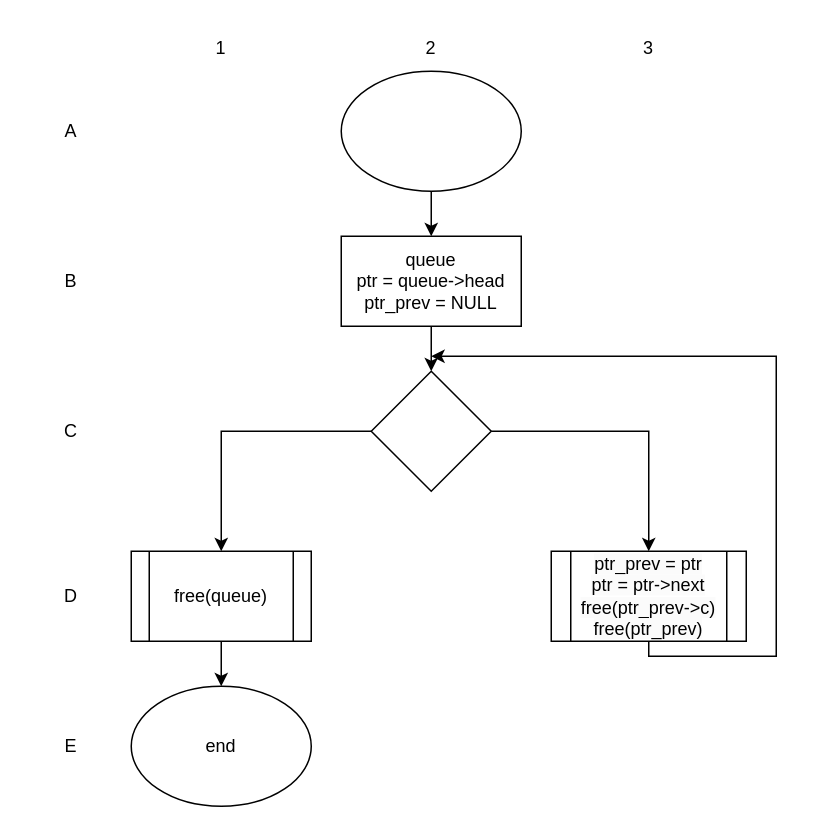
This 815x833 diagram has some shape labels left out. Here are the shapes that lost their labels. From the top down, the centre of each, then its label:
At point 430,130: "queue_delete".
At point 430,430: "ptr".
